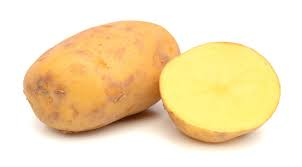potato: (17, 16, 159, 133)
